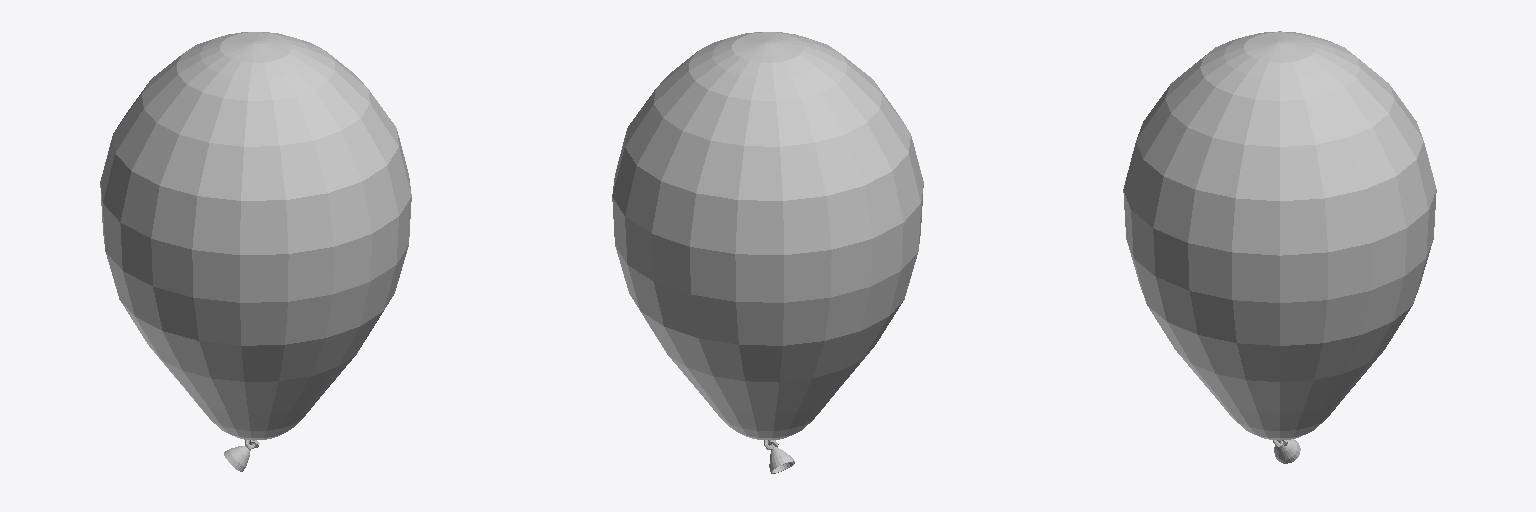
The model's file is balloon.obj.
The picture shows the model from 3 angles: view 1: azimuth 30°, elevation 25°; view 2: azimuth 150°, elevation 25°; view 3: azimuth 270°, elevation 25°; orthographic projection.
Visible parts, largest first — view 1: Balloon; view 2: Balloon; view 3: Balloon.
Boxes of the visible parts, <box> form: Balloon: <box>100,32,411,471</box>; Balloon: <box>612,32,923,473</box>; Balloon: <box>1123,31,1436,463</box>.
Bounding box in the file's own units: 6.74 × 10.12 × 6.74.